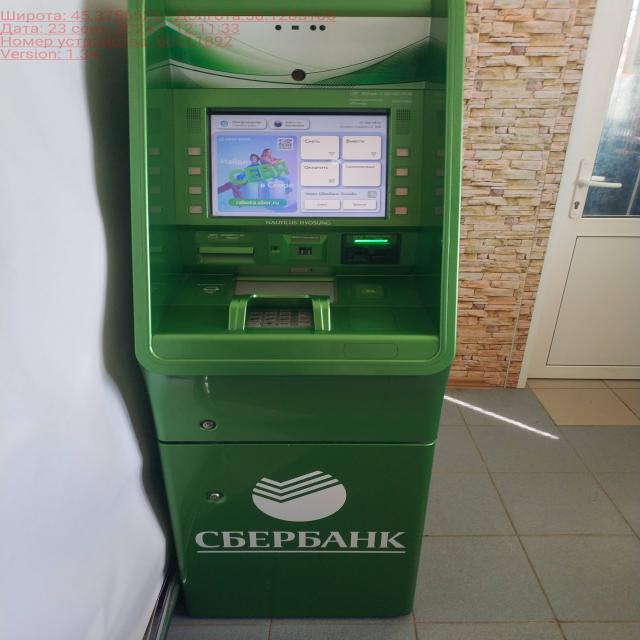bank: (128, 0, 460, 620)
